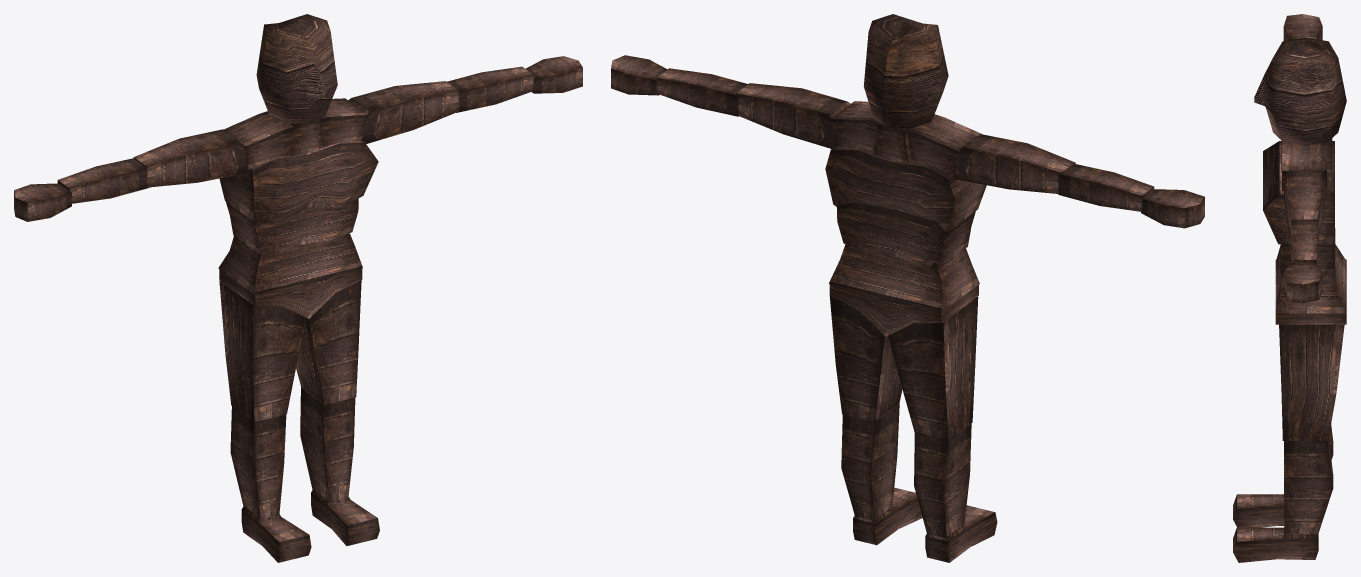
Rendered from player.fbx.
The picture shows the model from 3 angles, left to right: view 1: azimuth 30°, elevation 25°; view 2: azimuth 150°, elevation 25°; view 3: azimuth 270°, elevation 25°; orthographic projection. The views are drawn at different scales.
Parts seen in each view (by area): view 1: Box003, Box026, Sphere001, Box006, Box008, Box002, Box027, Box029, Box022, Box001, Box005, Box030 (+8 smaller); view 2: Box026, Sphere001, Box003, Box006, Box002, Box001, Box008, Box027, Box029, Box022, Box005, Box030 (+8 smaller); view 3: Sphere001, Box006, Box008, Box003, Box010, Box002, Box022, Box028, Box024, Box020, Box023, Box005 (+3 smaller).
Part boxes in pixels (x1,y1,x2,y2): Box003: (219,140,378,223); Box026: (219,280,305,422); Sphere001: (256,14,337,123); Box006: (296,280,361,404); Box008: (300,387,355,502); Box002: (218,233,362,294); Box027: (230,406,286,519); Box029: (133,129,250,187); Box022: (348,81,458,143); Box001: (225,198,358,255); Box005: (219,266,362,318); Box030: (57,158,149,203); Box026: (888,296,978,439); Sphere001: (863,14,948,128); Box003: (825,145,986,231); Box006: (829,296,902,421); Box002: (829,241,979,311); Box001: (836,203,975,267); Box008: (841,403,899,520); Box027: (914,423,971,538); Box029: (953,134,1075,193); Box022: (736,83,850,148); Box005: (829,281,978,336); Box030: (1058,164,1154,211); Sphere001: (1254,37,1346,145); Box006: (1279,324,1344,440); Box008: (1284,437,1333,535); Box003: (1263,141,1334,244); Box010: (1233,527,1318,562); Box002: (1276,228,1346,313); Box022: (1284,170,1325,236); Box028: (1233,494,1284,527); Box024: (1283,262,1322,303); Box020: (1282,141,1326,191); Box023: (1290,220,1318,265); Box005: (1275,259,1346,324).
Bounding box in the file's own units: 361 × 309 × 64.16.
Materials: 1 (1 with a texture image).
